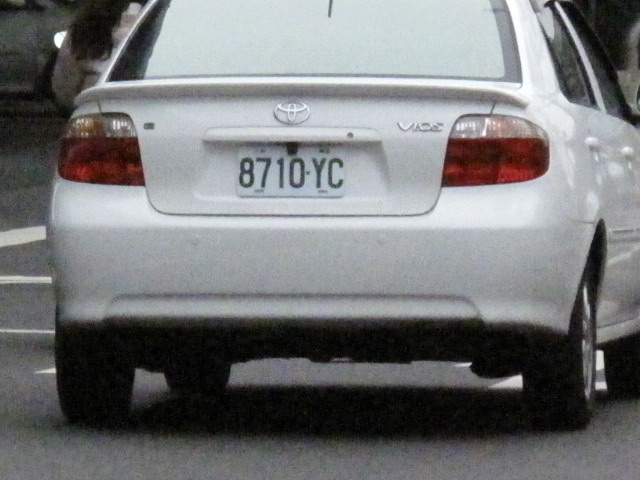plate: (235, 144, 347, 199)
